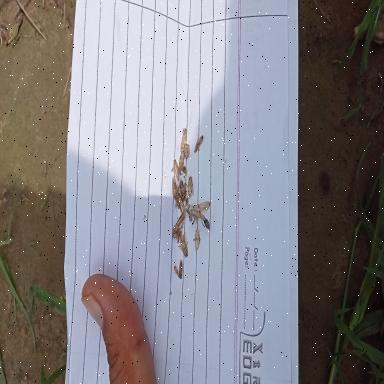pbw: (180, 125, 188, 152), (194, 133, 204, 153), (171, 158, 180, 180), (179, 235, 188, 257), (174, 260, 184, 278), (178, 179, 186, 199), (187, 176, 194, 198), (178, 195, 186, 214), (172, 176, 178, 200), (176, 211, 185, 227), (178, 150, 184, 172), (195, 226, 200, 250), (176, 224, 182, 242)
